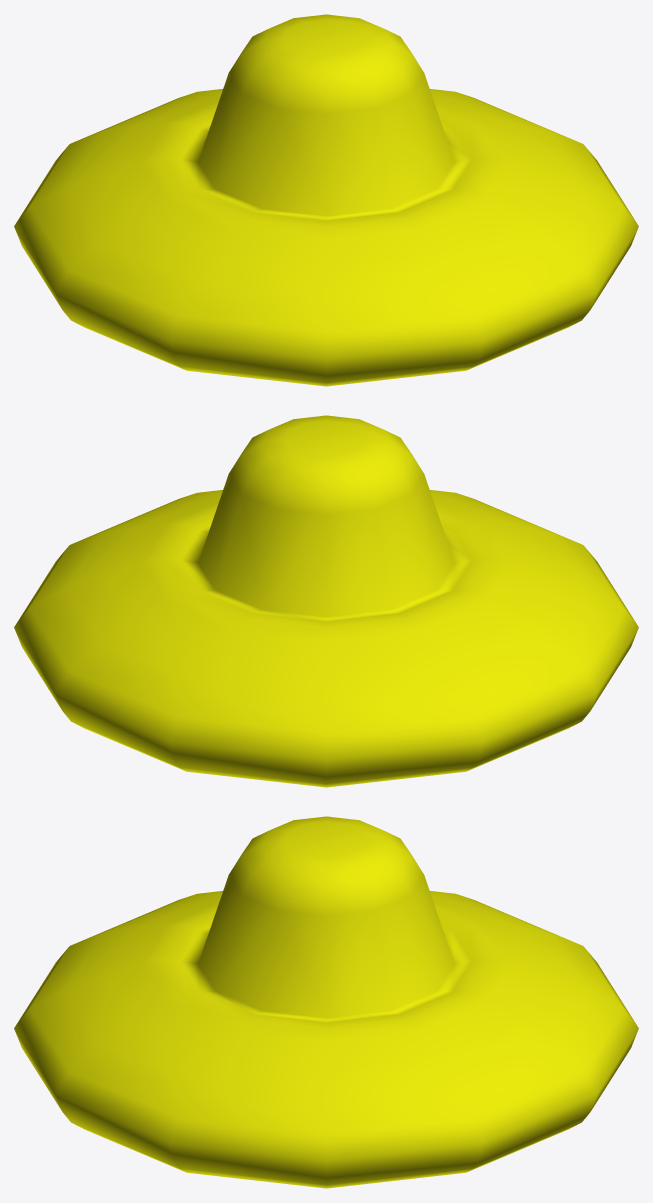
The model's file is Ufo.fbx.
3 views of the same model, one above another, from view 1: azimuth 30°, elevation 25°; view 2: azimuth 150°, elevation 25°; view 3: azimuth 270°, elevation 25° (orthographic).
Visible parts, largest first — view 1: SmallUFO_Outline4; view 2: SmallUFO_Outline4; view 3: SmallUFO_Outline4.
Part boxes in pixels (<box>): SmallUFO_Outline4: <box>14,14,638,386</box>; SmallUFO_Outline4: <box>14,415,638,787</box>; SmallUFO_Outline4: <box>14,816,638,1188</box>.
Bounding box in the file's own units: 208 × 102 × 208.
